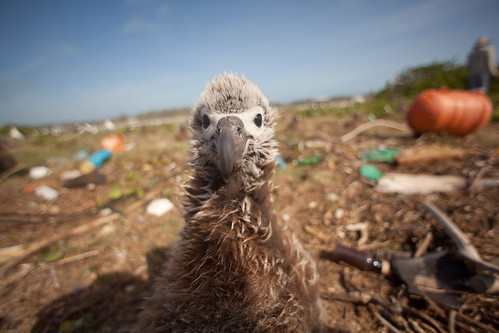animal: (148, 73, 333, 333)
sky: (1, 1, 462, 76)
trash: (1, 89, 499, 272)
